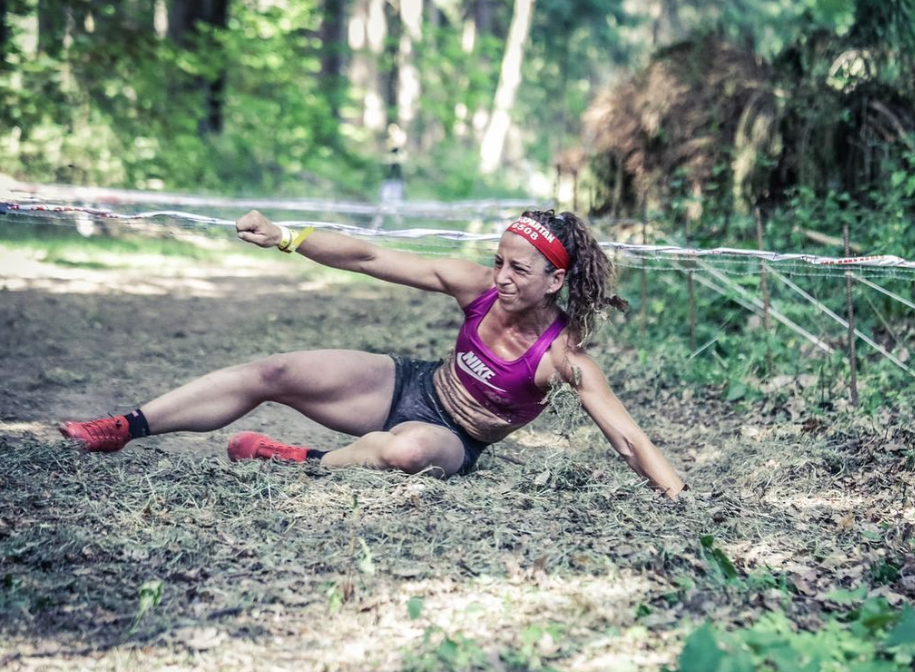fall: (56, 169, 731, 538)
